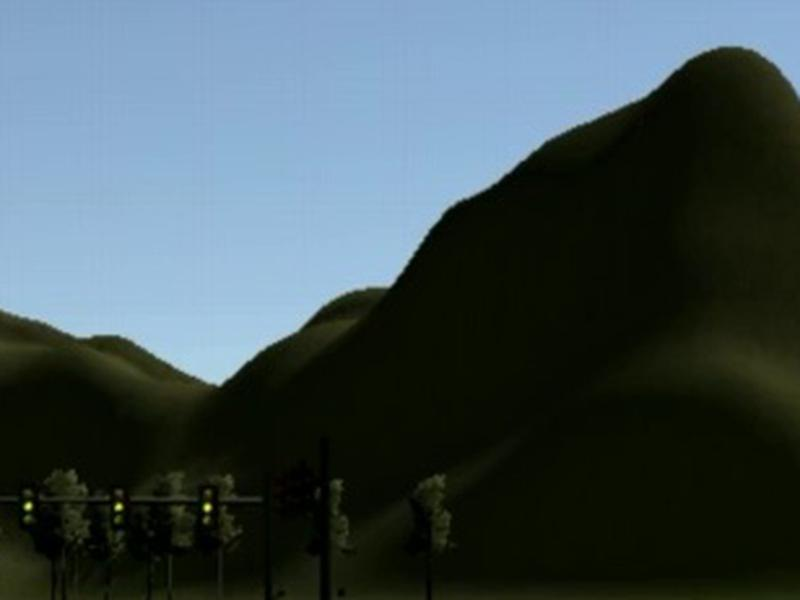Yellow: (198, 482, 219, 533), (109, 482, 129, 529), (20, 481, 36, 529)
